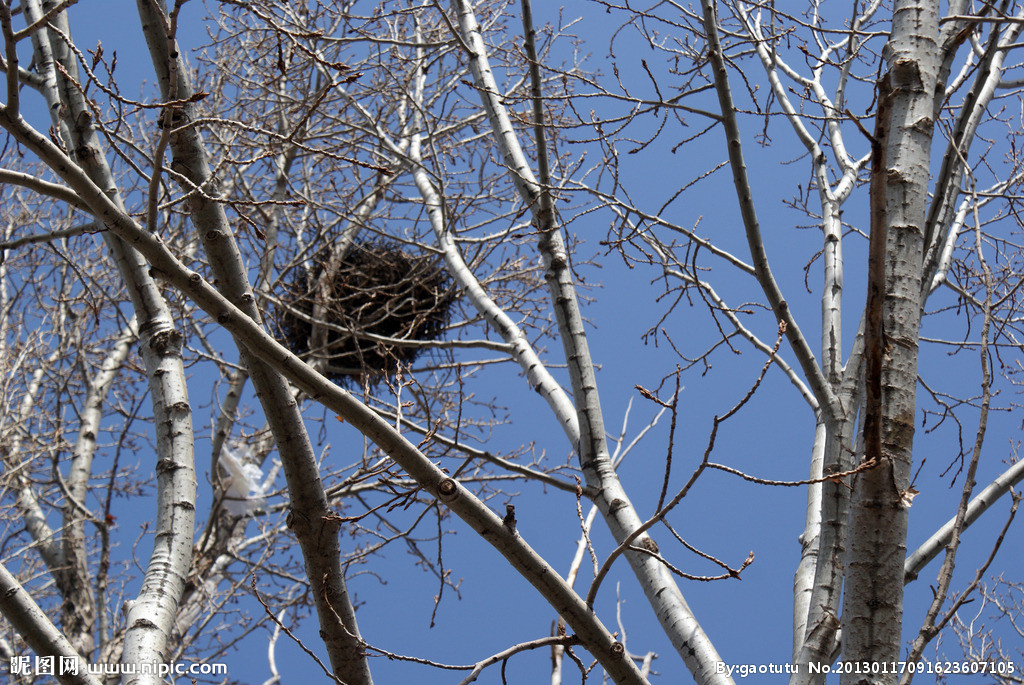bird-nest: (263, 233, 473, 383)
